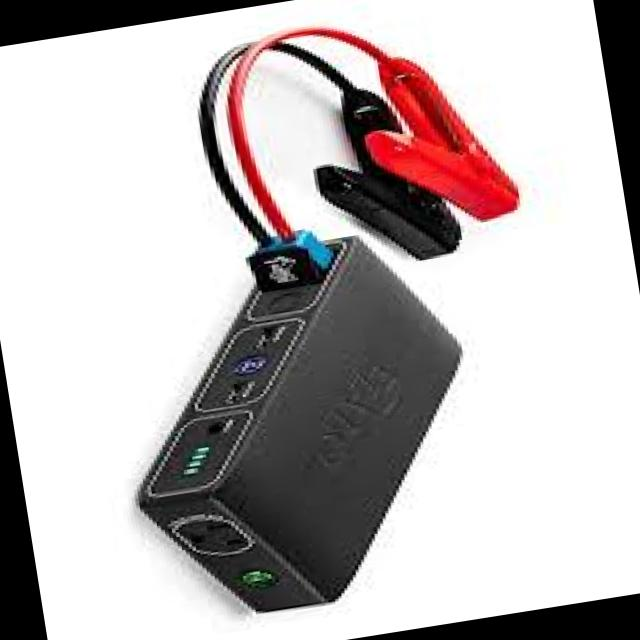portable-charger: (76, 208, 509, 640)
